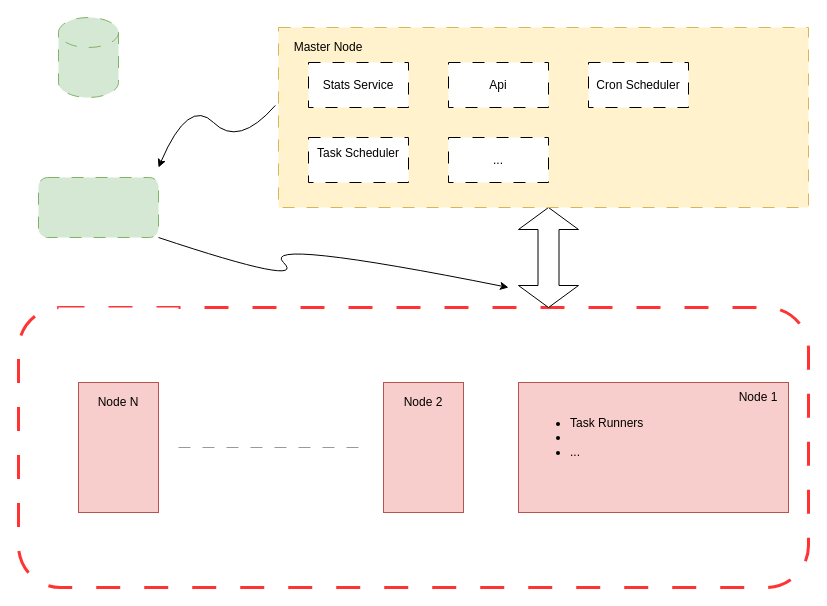
Some shapes in this 827 by 606 pixel diagram are drawn without their labels. The shapes that lost their labels are listed below. From the top down, each one's box as (x1, y1, x2, y2) in pixels, then its label:
(58, 16, 118, 98): DB
(38, 176, 158, 238): Kafka
(58, 307, 178, 367): Worker Cluster
